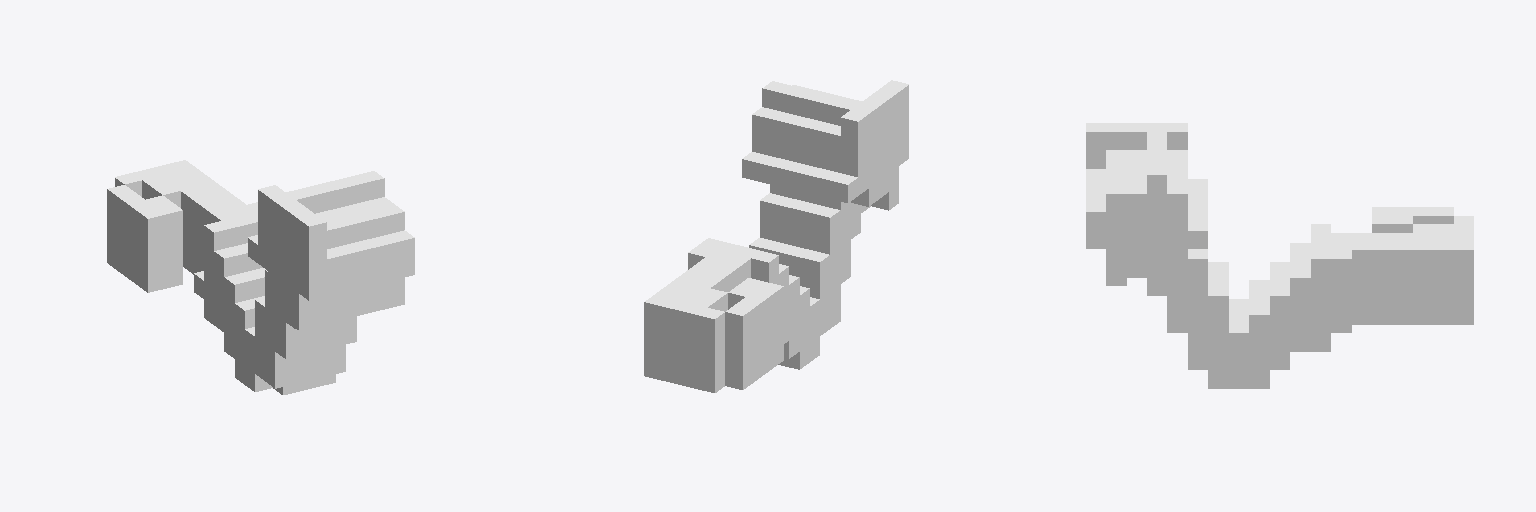
Rendered from knife-0.obj.
3 renders of one model, left to right at view 1: azimuth 30°, elevation 25°; view 2: azimuth 150°, elevation 25°; view 3: azimuth 270°, elevation 25°, orthographic.
Parts seen in each view (by area): view 1: object 1; view 2: object 1; view 3: object 1.
Part boxes in pixels (left/top/right/bottom): object 1: left=107, top=160, right=414, bottom=394; object 1: left=644, top=80, right=908, bottom=392; object 1: left=1086, top=123, right=1473, bottom=388.
Size of the model in its own units: 0.7 by 1.2 by 1.9.